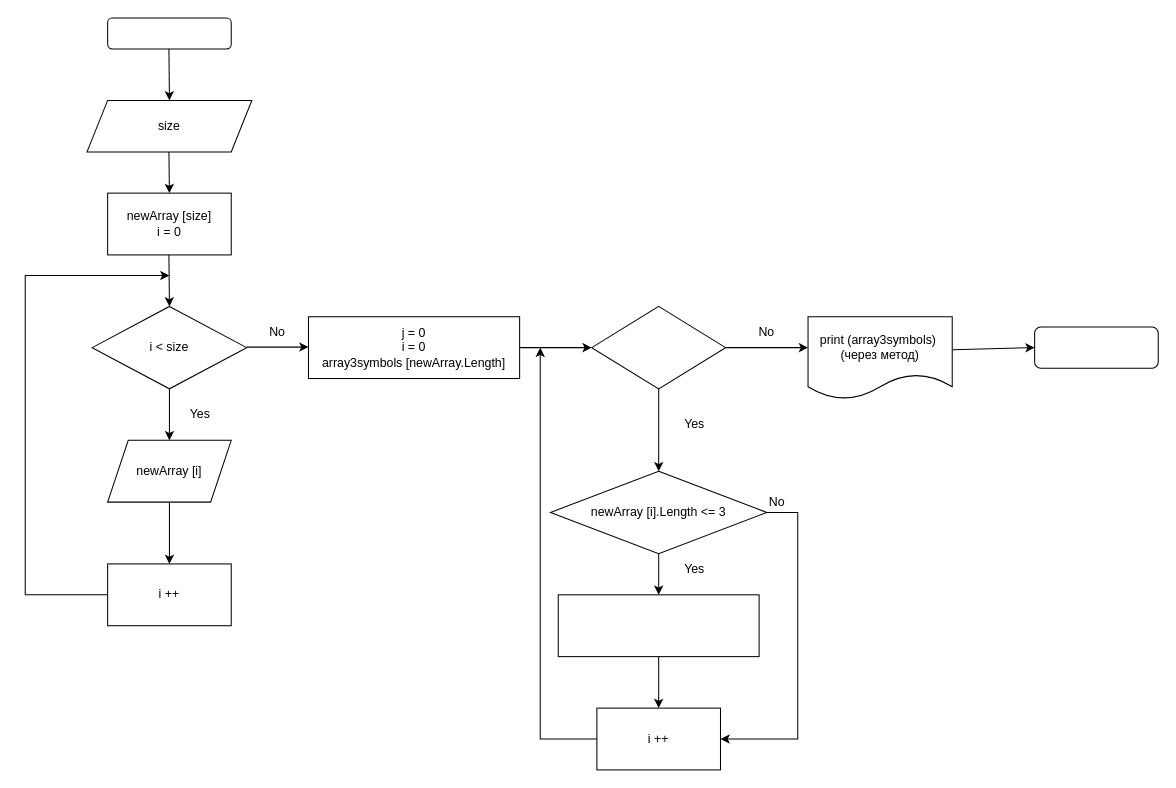
This 1176x788 diagram has some shape labels left out. Each missing label, with the box of its shape:
array3symbols [j] = newArray [i] j ++: (557, 594, 759, 657)
finish: (1034, 326, 1158, 368)
i < newArray.Length: (591, 305, 726, 389)
Start: (107, 17, 231, 49)
